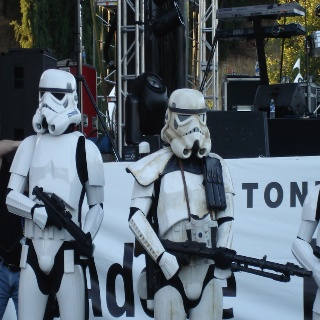rifle: (134, 232, 313, 293), (32, 185, 95, 251)
